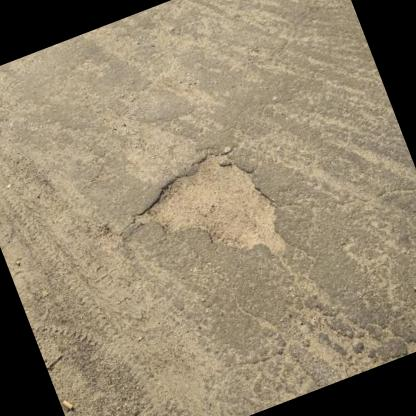pothole: (118, 134, 294, 296)
